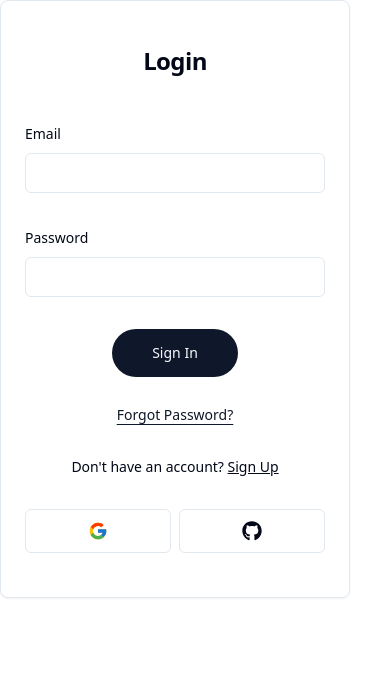
Test: LoginForm component › should display success message if login succeeds
Type "john@example.com" into the field labelled "Email" at (175, 173), box [25, 153, 325, 193]
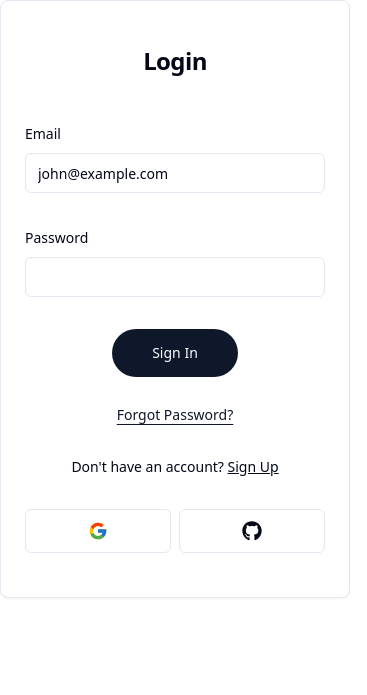
Type "password123" into the password field labelled "Password" at (175, 277), box [25, 257, 325, 297]
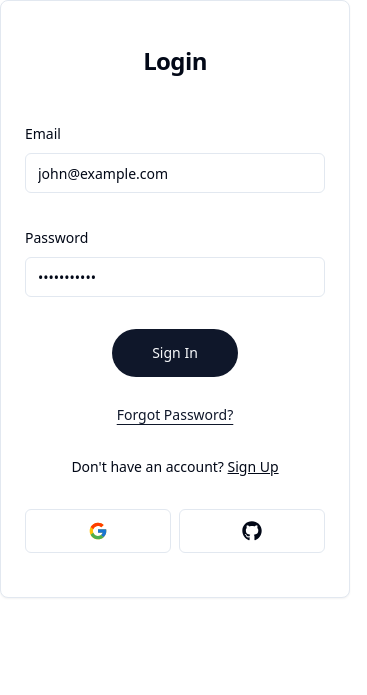
Click the button "Sign In" at (175, 353), box [112, 329, 238, 377]
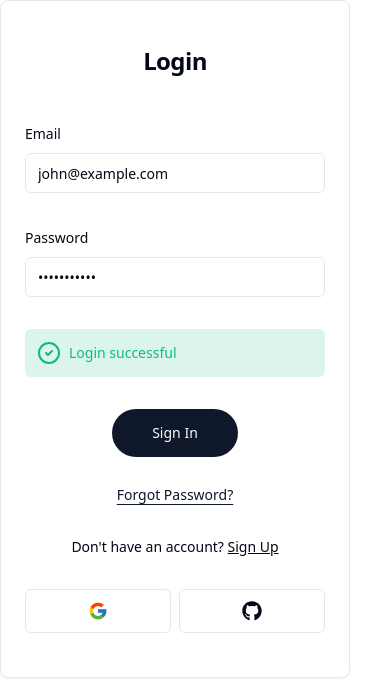
Expected: the text "Login successful" is shown, [69, 343, 176, 363]
